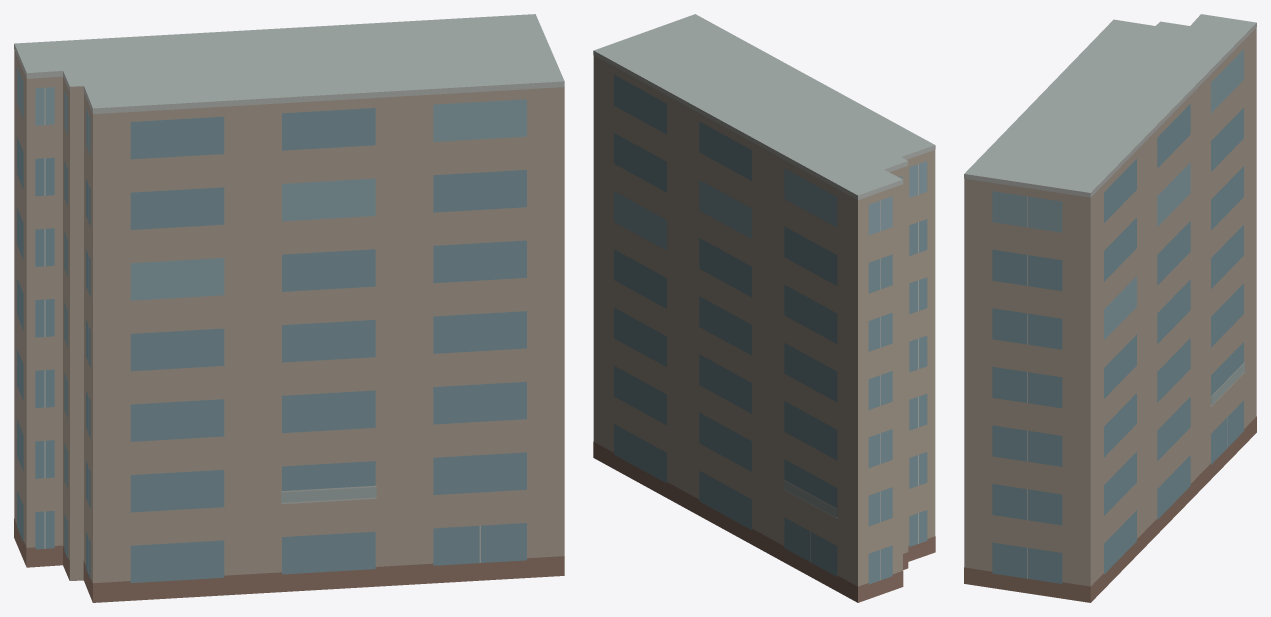
Rendered from survey-upis-32604560.glb.
3 views of the same model, side by side, from view 1: azimuth 30°, elevation 25°; view 2: azimuth 150°, elevation 25°; view 3: azimuth 270°, elevation 25° (orthographic). The views are drawn at different scales.
Parts seen in each view (by area): view 1: survey-upis-32604560.tmp; view 2: survey-upis-32604560.tmp; view 3: survey-upis-32604560.tmp.
Boxes of the visible parts, <box> form: survey-upis-32604560.tmp: <box>14,14,564,602</box>; survey-upis-32604560.tmp: <box>593,14,935,602</box>; survey-upis-32604560.tmp: <box>964,14,1256,602</box>.
Size of the model in its own units: 20 by 21.35 by 13.83.
